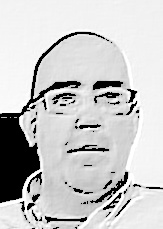nose_M_C: (73, 100, 104, 139)
